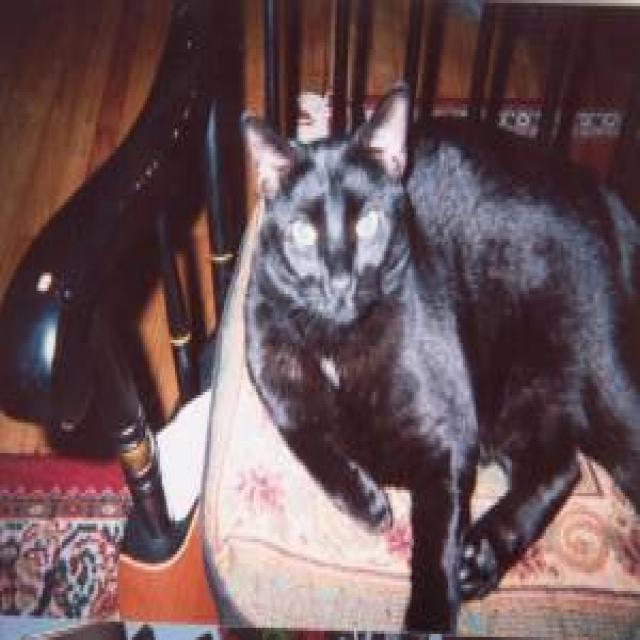Bombay: (235, 75, 433, 328)
